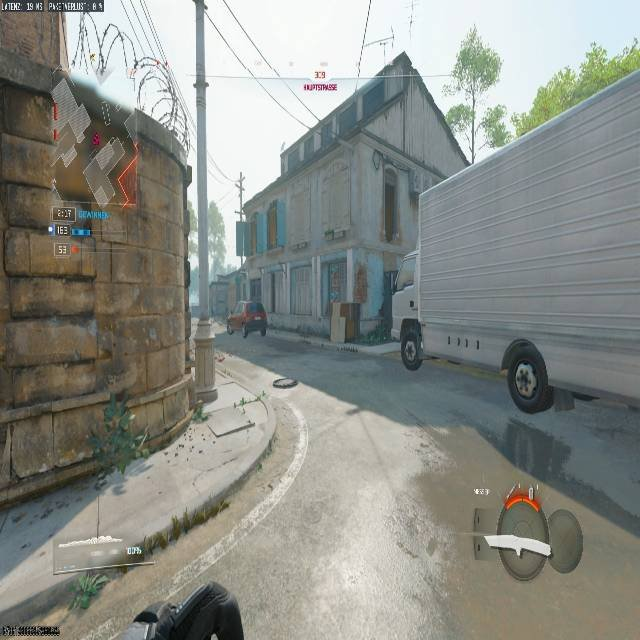player: (395, 313, 425, 371)
